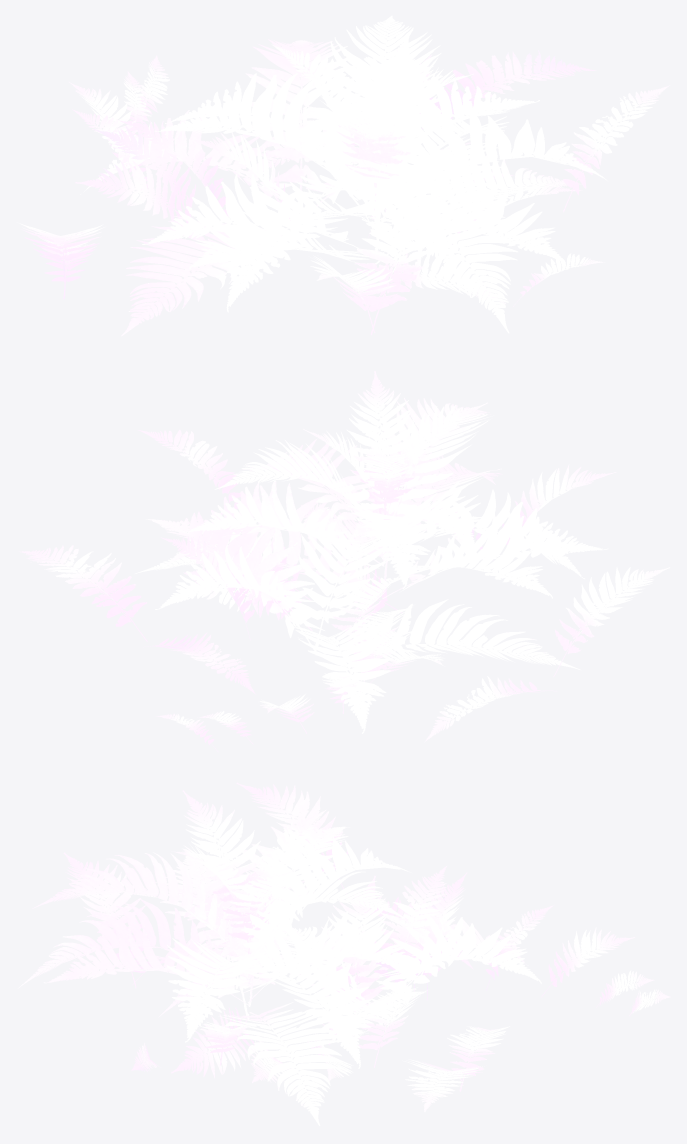
3 views of the same model, one above another, from view 1: azimuth 30°, elevation 25°; view 2: azimuth 150°, elevation 25°; view 3: azimuth 270°, elevation 25° (orthographic). The views are drawn at different scales.
Parts seen in each view (by area): view 1: SM_GF_Fern_02_LOD0; view 2: SM_GF_Fern_02_LOD0; view 3: SM_GF_Fern_02_LOD0.
Boxes of the visible parts, x1,y1,x2,y2 form: SM_GF_Fern_02_LOD0: (17,15,669,336); SM_GF_Fern_02_LOD0: (19,371,669,751); SM_GF_Fern_02_LOD0: (18,782,670,1125).
Bounding box in the file's own units: 1.08 × 0.3968 × 1.07.
